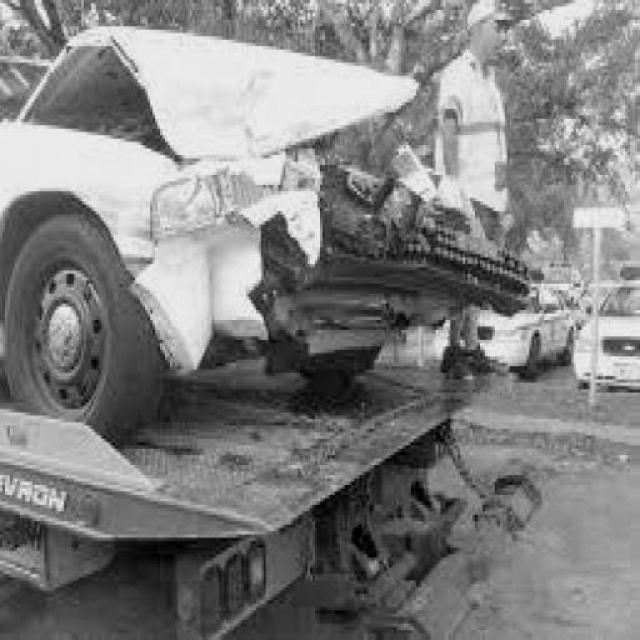car damage: (18, 30, 540, 369)
